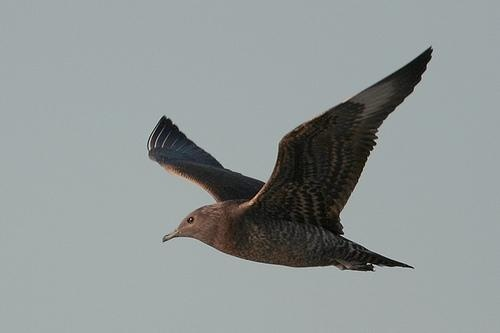bird: (142, 43, 432, 275)
